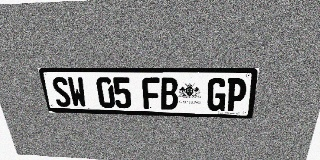0: (95, 77, 116, 108)
5: (113, 77, 132, 109)
B: (160, 78, 178, 110)
F: (142, 77, 160, 109)
G: (207, 78, 227, 111)
P: (225, 78, 248, 112)
S: (51, 77, 72, 107)
W: (67, 77, 88, 107)
